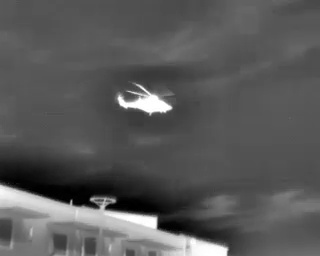HELICOPTER: (113, 76, 180, 123)
